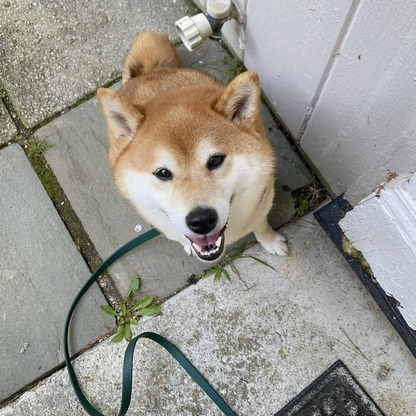shiba: (94, 26, 300, 268)
